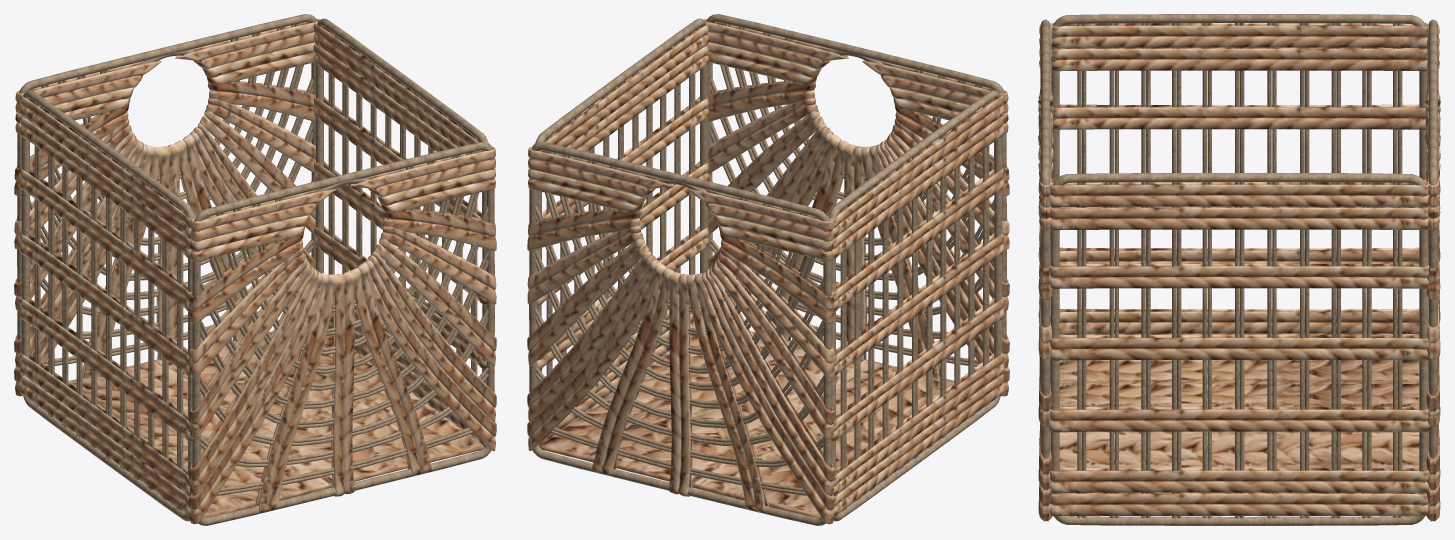
File: 01 - LUSTIGKURRE Basket - natural water hyacinthseagrass 32x33x32 cm.glb
3 views of the same model, side by side, from view 1: azimuth 30°, elevation 25°; view 2: azimuth 150°, elevation 25°; view 3: azimuth 270°, elevation 25° (orthographic). The views are drawn at different scales.
Visible parts, largest first — view 1: 30457328_basket:1, 30457328_basket:2, 30457328_basket:3, 30457328_basket:4; view 2: 30457328_basket:1, 30457328_basket:2, 30457328_basket:3, 30457328_basket:4; view 3: 30457328_basket:1, 30457328_basket:2, 30457328_basket:4.
Part boxes in pixels (bbox=[...]): 30457328_basket:1: bbox=[14, 18, 496, 524]; 30457328_basket:2: bbox=[17, 14, 494, 525]; 30457328_basket:3: bbox=[29, 22, 488, 495]; 30457328_basket:4: bbox=[70, 331, 483, 517]; 30457328_basket:1: bbox=[527, 18, 1009, 524]; 30457328_basket:2: bbox=[529, 14, 1006, 525]; 30457328_basket:3: bbox=[535, 22, 994, 495]; 30457328_basket:4: bbox=[540, 331, 953, 517]; 30457328_basket:1: bbox=[1038, 22, 1440, 521]; 30457328_basket:2: bbox=[1041, 14, 1437, 525]; 30457328_basket:4: bbox=[1059, 360, 1419, 515].
Size of the model in its own units: 0.3197 by 0.3198 by 0.329.
1 material, 1 textured.
